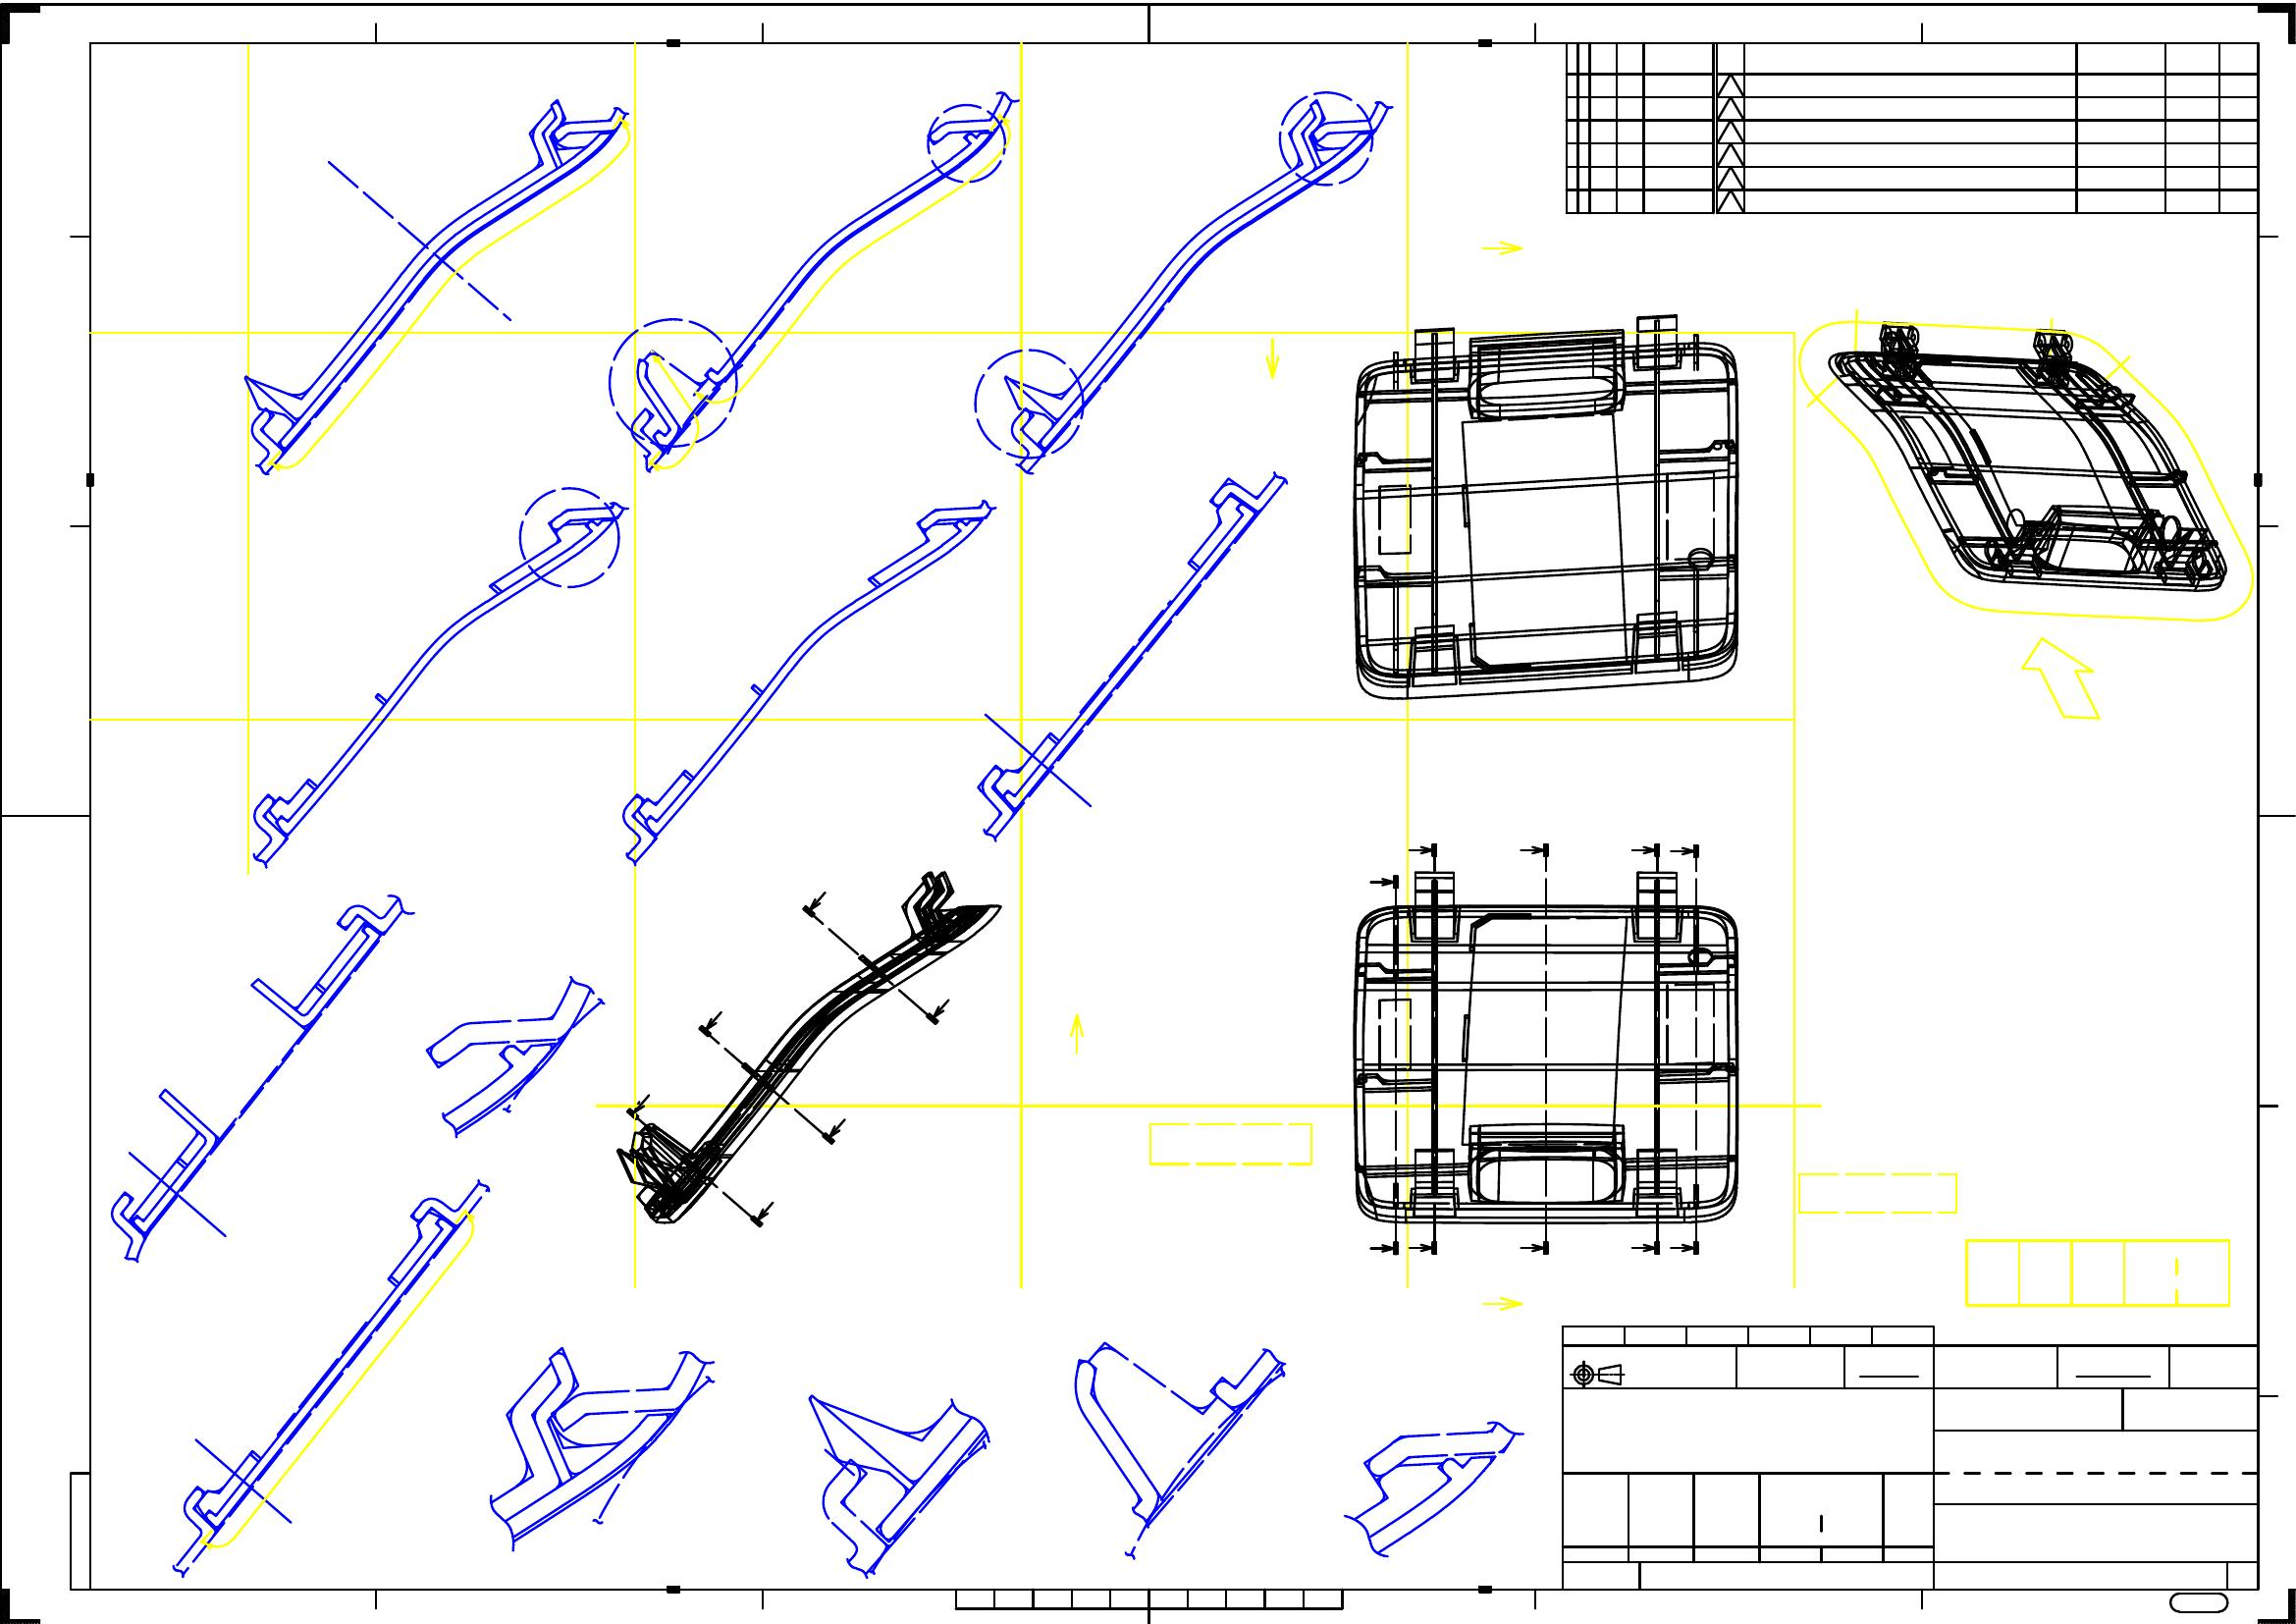object: (629, 90, 1021, 471), (1354, 313, 1739, 700), (1005, 97, 1393, 475), (241, 100, 629, 475), (253, 503, 629, 868), (615, 872, 1003, 1225), (1354, 872, 1739, 1223), (624, 499, 993, 865), (170, 1178, 490, 1577), (978, 473, 1288, 840), (111, 893, 415, 1262), (1827, 320, 2226, 591), (490, 1346, 715, 1552), (1075, 1341, 1286, 1526), (808, 1396, 989, 1580), (423, 975, 604, 1139), (1342, 1420, 1523, 1557)
title_block: (1562, 1325, 2259, 1591), (1565, 40, 2256, 213)
